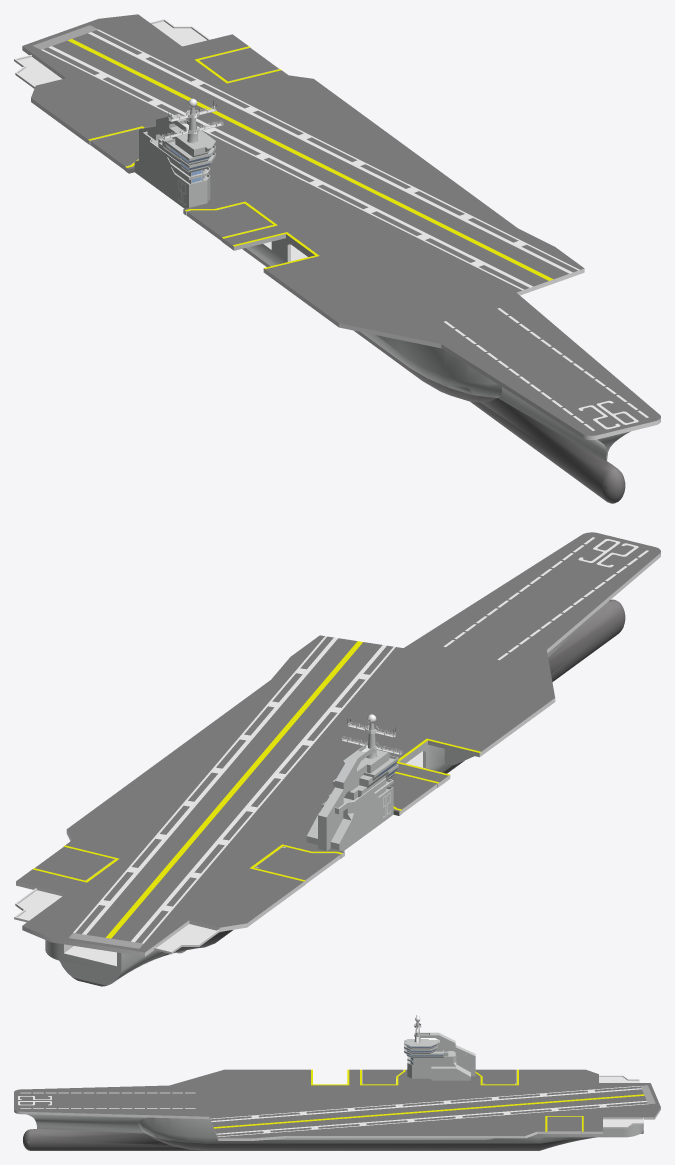
File: carrier1.glb
3 views of the same model, one above another, from view 1: azimuth 30°, elevation 25°; view 2: azimuth 150°, elevation 25°; view 3: azimuth 270°, elevation 25° (orthographic). The views are drawn at different scales.
Parts seen in each view (by area): view 1: SketchUp.044_ID455, SketchUp.011_ID255, SketchUp.032_ID383, SketchUp.014_ID273, SketchUp.010_ID247, SketchUp.019_ID303, SketchUp.043_ID449, SketchUp.031_ID375, SketchUp_ID181, SketchUp.009_ID241, SketchUp.008_ID233, SketchUp.426_ID1632; view 2: SketchUp.044_ID455, SketchUp.011_ID255, SketchUp.032_ID383, SketchUp.014_ID273, SketchUp.019_ID303, SketchUp_ID181, SketchUp.010_ID247, SketchUp.043_ID449, SketchUp.031_ID375, SketchUp.426_ID1632, SketchUp.008_ID233, SketchUp.009_ID241 (+1 smaller); view 3: SketchUp.044_ID455, SketchUp.011_ID255, SketchUp.010_ID247, SketchUp.019_ID303, SketchUp.032_ID383, SketchUp.014_ID273, SketchUp.043_ID449, SketchUp.031_ID375, SketchUp_ID181, SketchUp.426_ID1632, SketchUp.009_ID241, SketchUp.008_ID233.
Boxes of the visible parts, left/top/right/bottom form: SketchUp.044_ID455: left=22, top=14, right=660, bottom=435; SketchUp.011_ID255: left=134, top=114, right=630, bottom=461; SketchUp.032_ID383: left=72, top=33, right=568, bottom=279; SketchUp.014_ID273: left=52, top=40, right=548, bottom=286; SketchUp.010_ID247: left=242, top=248, right=625, bottom=503; SketchUp.019_ID303: left=41, top=46, right=660, bottom=439; SketchUp.043_ID449: left=88, top=29, right=579, bottom=273; SketchUp.031_ID375: left=68, top=39, right=553, bottom=280; SketchUp_ID181: left=14, top=19, right=249, bottom=144; SketchUp.009_ID241: left=187, top=203, right=272, bottom=236; SketchUp.008_ID233: left=200, top=48, right=278, bottom=81; SketchUp.426_ID1632: left=90, top=128, right=140, bottom=166; SketchUp.044_ID455: left=16, top=532, right=660, bottom=952; SketchUp.011_ID255: left=45, top=608, right=600, bottom=985; SketchUp.032_ID383: left=86, top=638, right=357, bottom=937; SketchUp.014_ID273: left=111, top=642, right=382, bottom=941; SketchUp.019_ID303: left=66, top=552, right=660, bottom=943; SketchUp_ID181: left=14, top=881, right=305, bottom=956; SketchUp.010_ID247: left=73, top=599, right=625, bottom=986; SketchUp.043_ID449: left=73, top=636, right=337, bottom=934; SketchUp.031_ID375: left=106, top=641, right=362, bottom=938; SketchUp.426_ID1632: left=255, top=846, right=340, bottom=879; SketchUp.008_ID233: left=35, top=847, right=113, bottom=880; SketchUp.009_ID241: left=389, top=773, right=436, bottom=809; SketchUp.044_ID455: left=14, top=1069, right=660, bottom=1138; SketchUp.011_ID255: left=26, top=1032, right=643, bottom=1143; SketchUp.010_ID247: left=23, top=1129, right=596, bottom=1150; SketchUp.019_ID303: left=14, top=1086, right=641, bottom=1140; SketchUp.032_ID383: left=214, top=1095, right=646, bottom=1133; SketchUp.014_ID273: left=211, top=1089, right=643, bottom=1126; SketchUp.043_ID449: left=216, top=1101, right=647, bottom=1136; SketchUp.031_ID375: left=213, top=1094, right=644, bottom=1128; SketchUp_ID181: left=582, top=1075, right=660, bottom=1133; SketchUp.426_ID1632: left=475, top=1069, right=516, bottom=1084; SketchUp.009_ID241: left=362, top=1069, right=403, bottom=1084; SketchUp.008_ID233: left=547, top=1117, right=581, bottom=1131.
Bounding box in the file's own units: 75.33 × 52.72 × 286.
